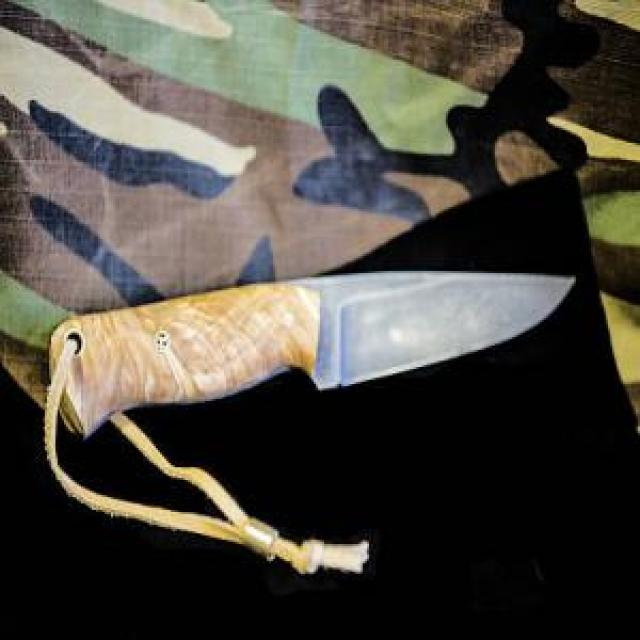knife: (47, 267, 580, 431)
